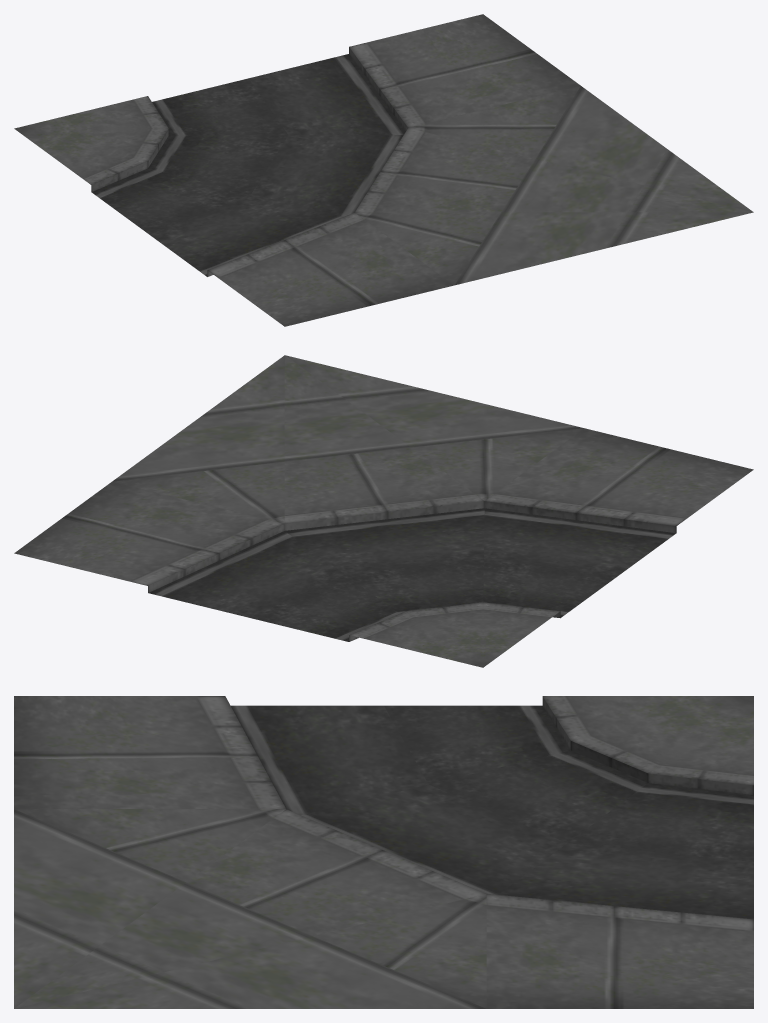
The model's file is road4d.fbx.
The picture shows the model from 3 angles, top to bottom: view 1: azimuth 30°, elevation 25°; view 2: azimuth 150°, elevation 25°; view 3: azimuth 270°, elevation 25°; orthographic projection. The views are drawn at different scales.
Visible parts, largest first — view 1: road4d; view 2: road4d; view 3: road4d.
Boxes of the visible parts, box(x1,y1,x2,y2) form: road4d: box(14, 14, 753, 326); road4d: box(14, 355, 753, 667); road4d: box(14, 696, 753, 1008).
Bounding box in the file's own units: 1400 × 1400 × 20.
1 material, 1 textured.
